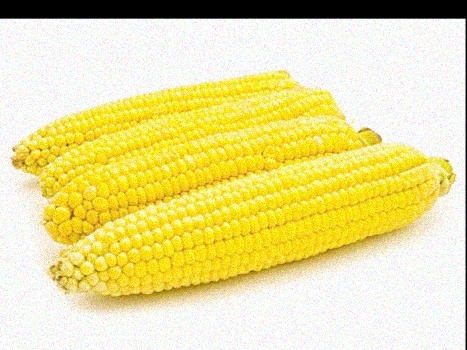corn: (55, 140, 443, 301), (38, 121, 368, 247), (34, 89, 330, 194)
